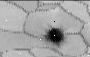good_void: (43, 24, 67, 48)
